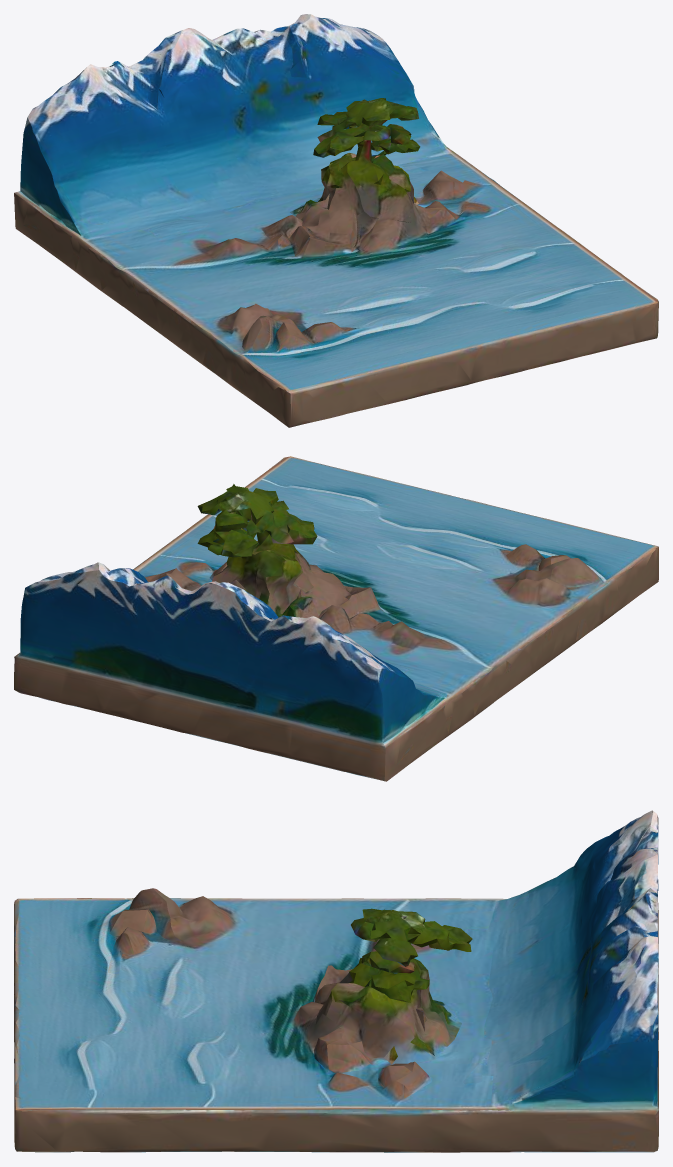
Rendered from amaharashi-coast.glb.
3 renders of one model, top to bottom at view 1: azimuth 30°, elevation 25°; view 2: azimuth 150°, elevation 25°; view 3: azimuth 270°, elevation 25°, orthographic. The views are drawn at different scales.
Visible parts, largest first — view 1: logan-textured.obj; view 2: logan-textured.obj; view 3: logan-textured.obj.
Part boxes in pixels (x1,y1,x2,y2): logan-textured.obj: (14,14,658,427); logan-textured.obj: (14,456,658,781); logan-textured.obj: (14,810,658,1152).
Bounding box in the file's own units: 0.7843 × 0.3205 × 1.
Materials: 1 (1 with a texture image).
